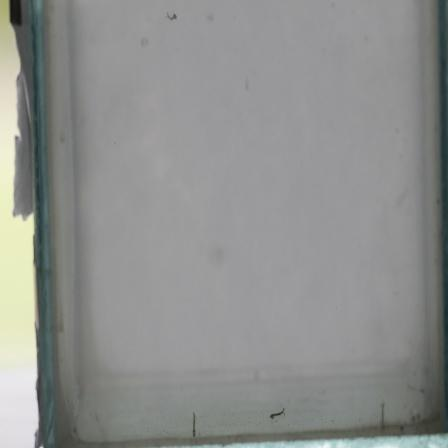Jentik-Nyamuk: (266, 405, 290, 421), (188, 410, 198, 440), (164, 8, 180, 24)
